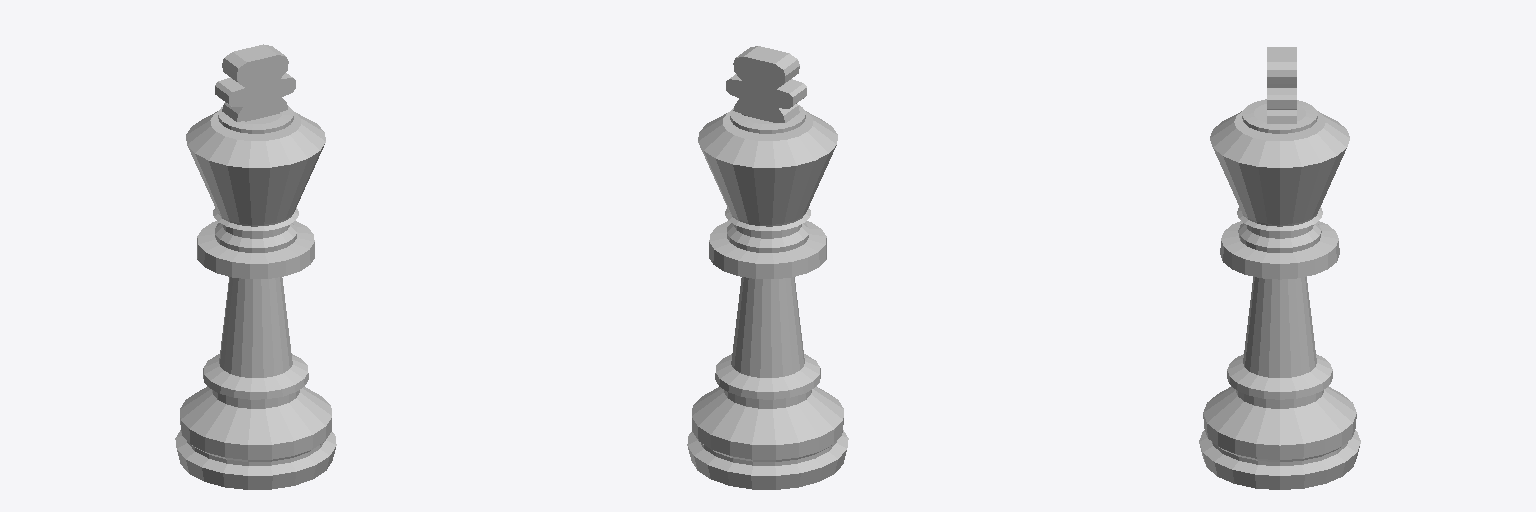
File: blackKing.obj
The picture shows the model from 3 angles: view 1: azimuth 30°, elevation 25°; view 2: azimuth 150°, elevation 25°; view 3: azimuth 270°, elevation 25°; orthographic projection.
Parts seen in each view (by area): view 1: pCylinder9; view 2: pCylinder9; view 3: pCylinder9.
Part boxes in pixels (left/top/right/bottom): pCylinder9: left=175, top=44, right=336, bottom=489; pCylinder9: left=687, top=46, right=848, bottom=489; pCylinder9: left=1199, top=47, right=1360, bottom=489.
Size of the model in its own units: 0.9482 by 2.6 by 0.9482.